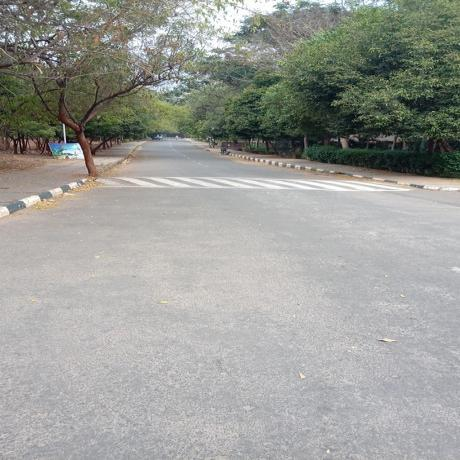Speed Bump: (85, 174, 413, 192)
